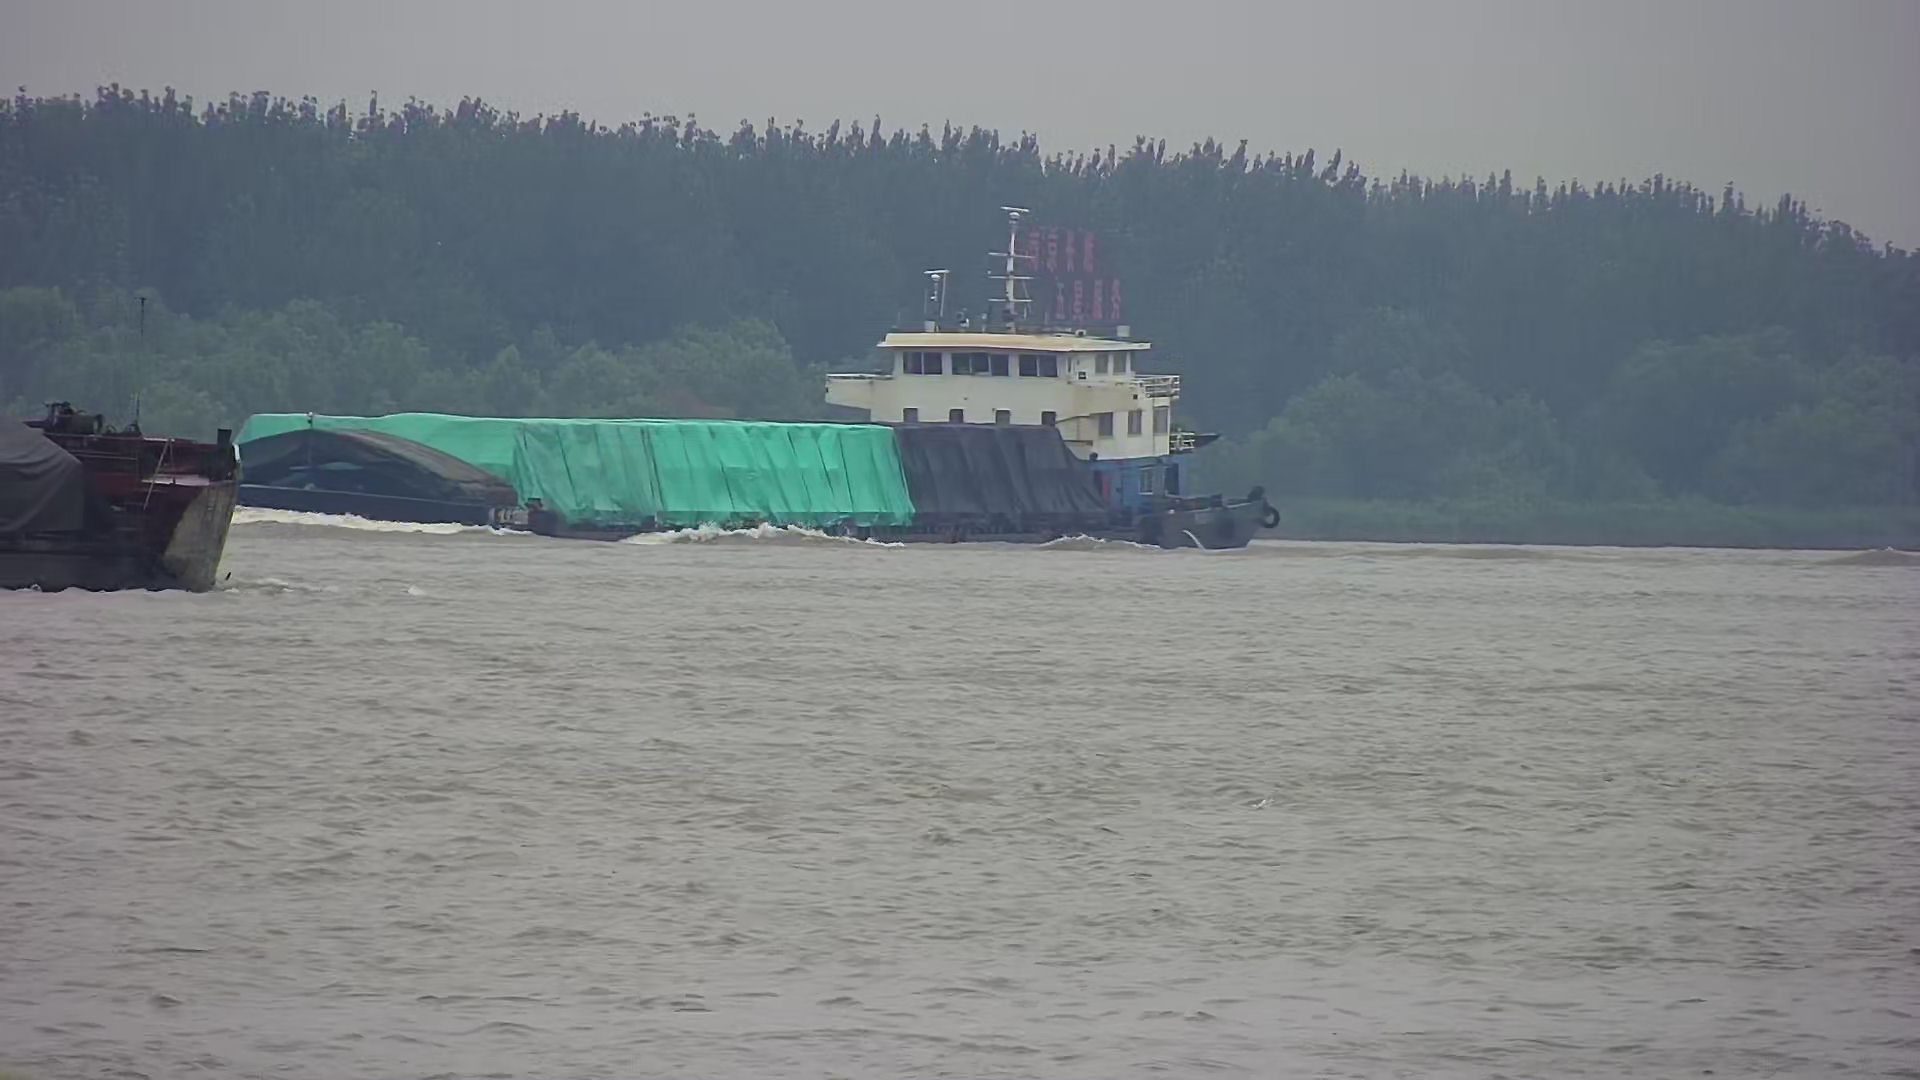ship: (222, 258, 1287, 560), (1, 301, 245, 600)
